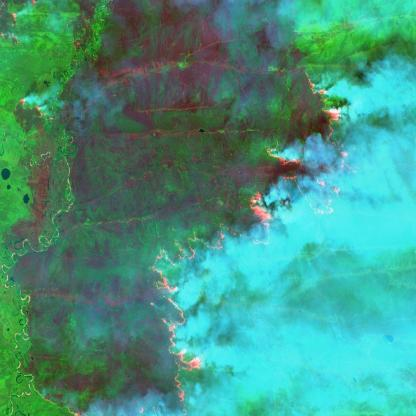fire: (243, 66, 356, 257), (147, 217, 230, 416), (0, 0, 44, 51), (13, 88, 56, 128)
